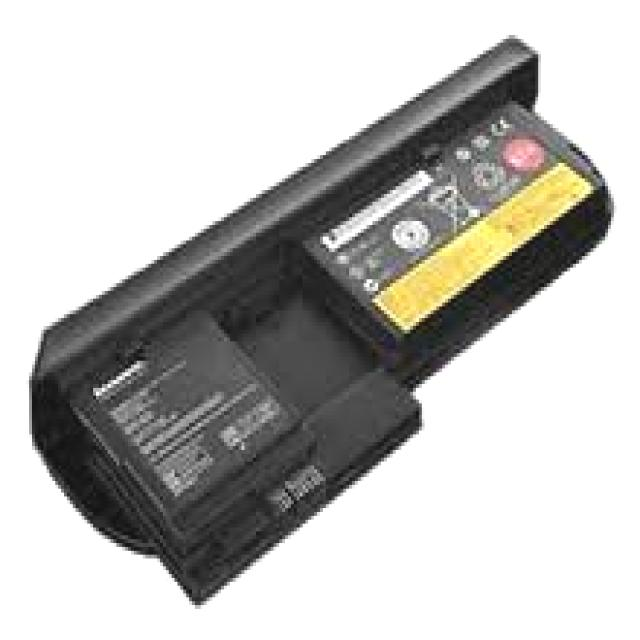elektronik: (29, 39, 611, 597), (308, 106, 588, 336)
